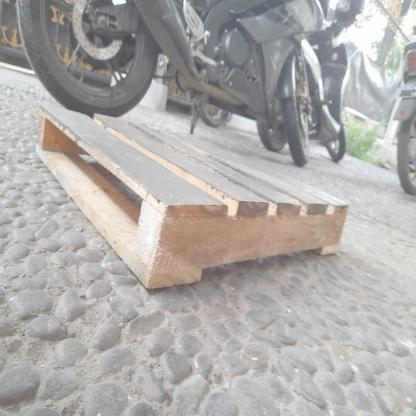Wooden-Pallet: (34, 99, 353, 292)
